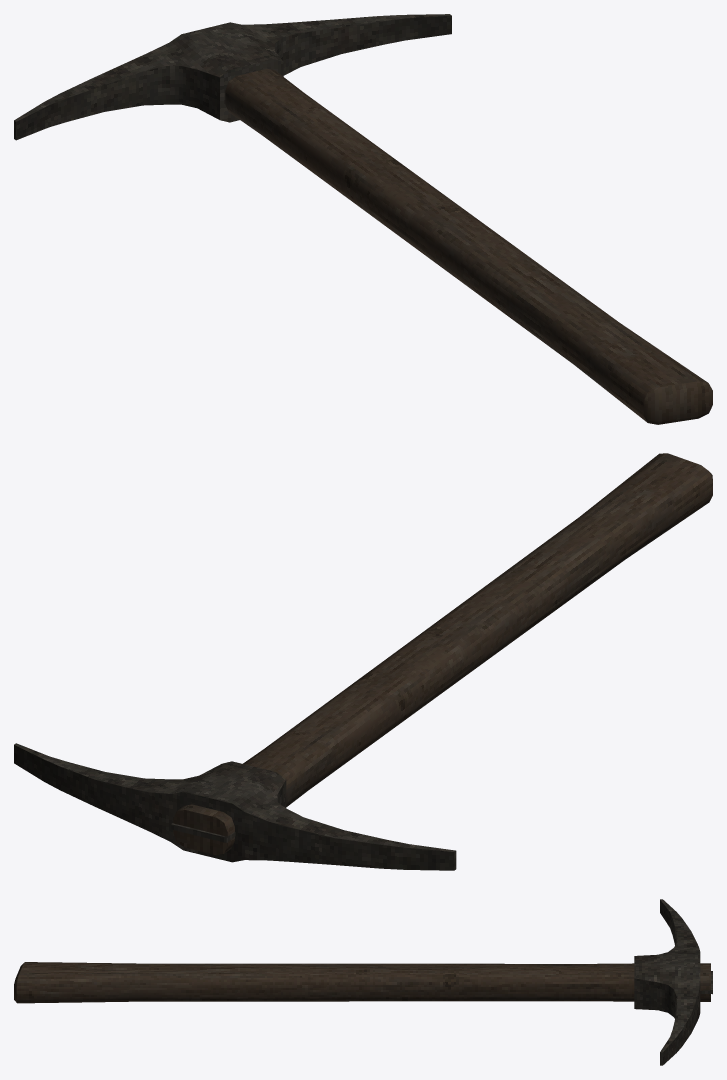
Rendered from pick_axe_mx_1.glb.
3 views of the same model, one above another, from view 1: azimuth 30°, elevation 25°; view 2: azimuth 150°, elevation 25°; view 3: azimuth 270°, elevation 25° (orthographic). The views are drawn at different scales.
Parts seen in each view (by area): view 1: pick_axe_mx_1; view 2: pick_axe_mx_1; view 3: pick_axe_mx_1.
Part boxes in pixels (bbox=[...]): pick_axe_mx_1: bbox=[14, 14, 712, 424]; pick_axe_mx_1: bbox=[14, 453, 712, 870]; pick_axe_mx_1: bbox=[14, 899, 712, 1065].
Bounding box in the file's own units: 0.4389 × 0.056 × 0.8474.
2 materials, 2 textured.
